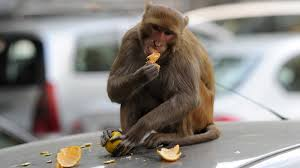monkey: (81, 9, 232, 157)
